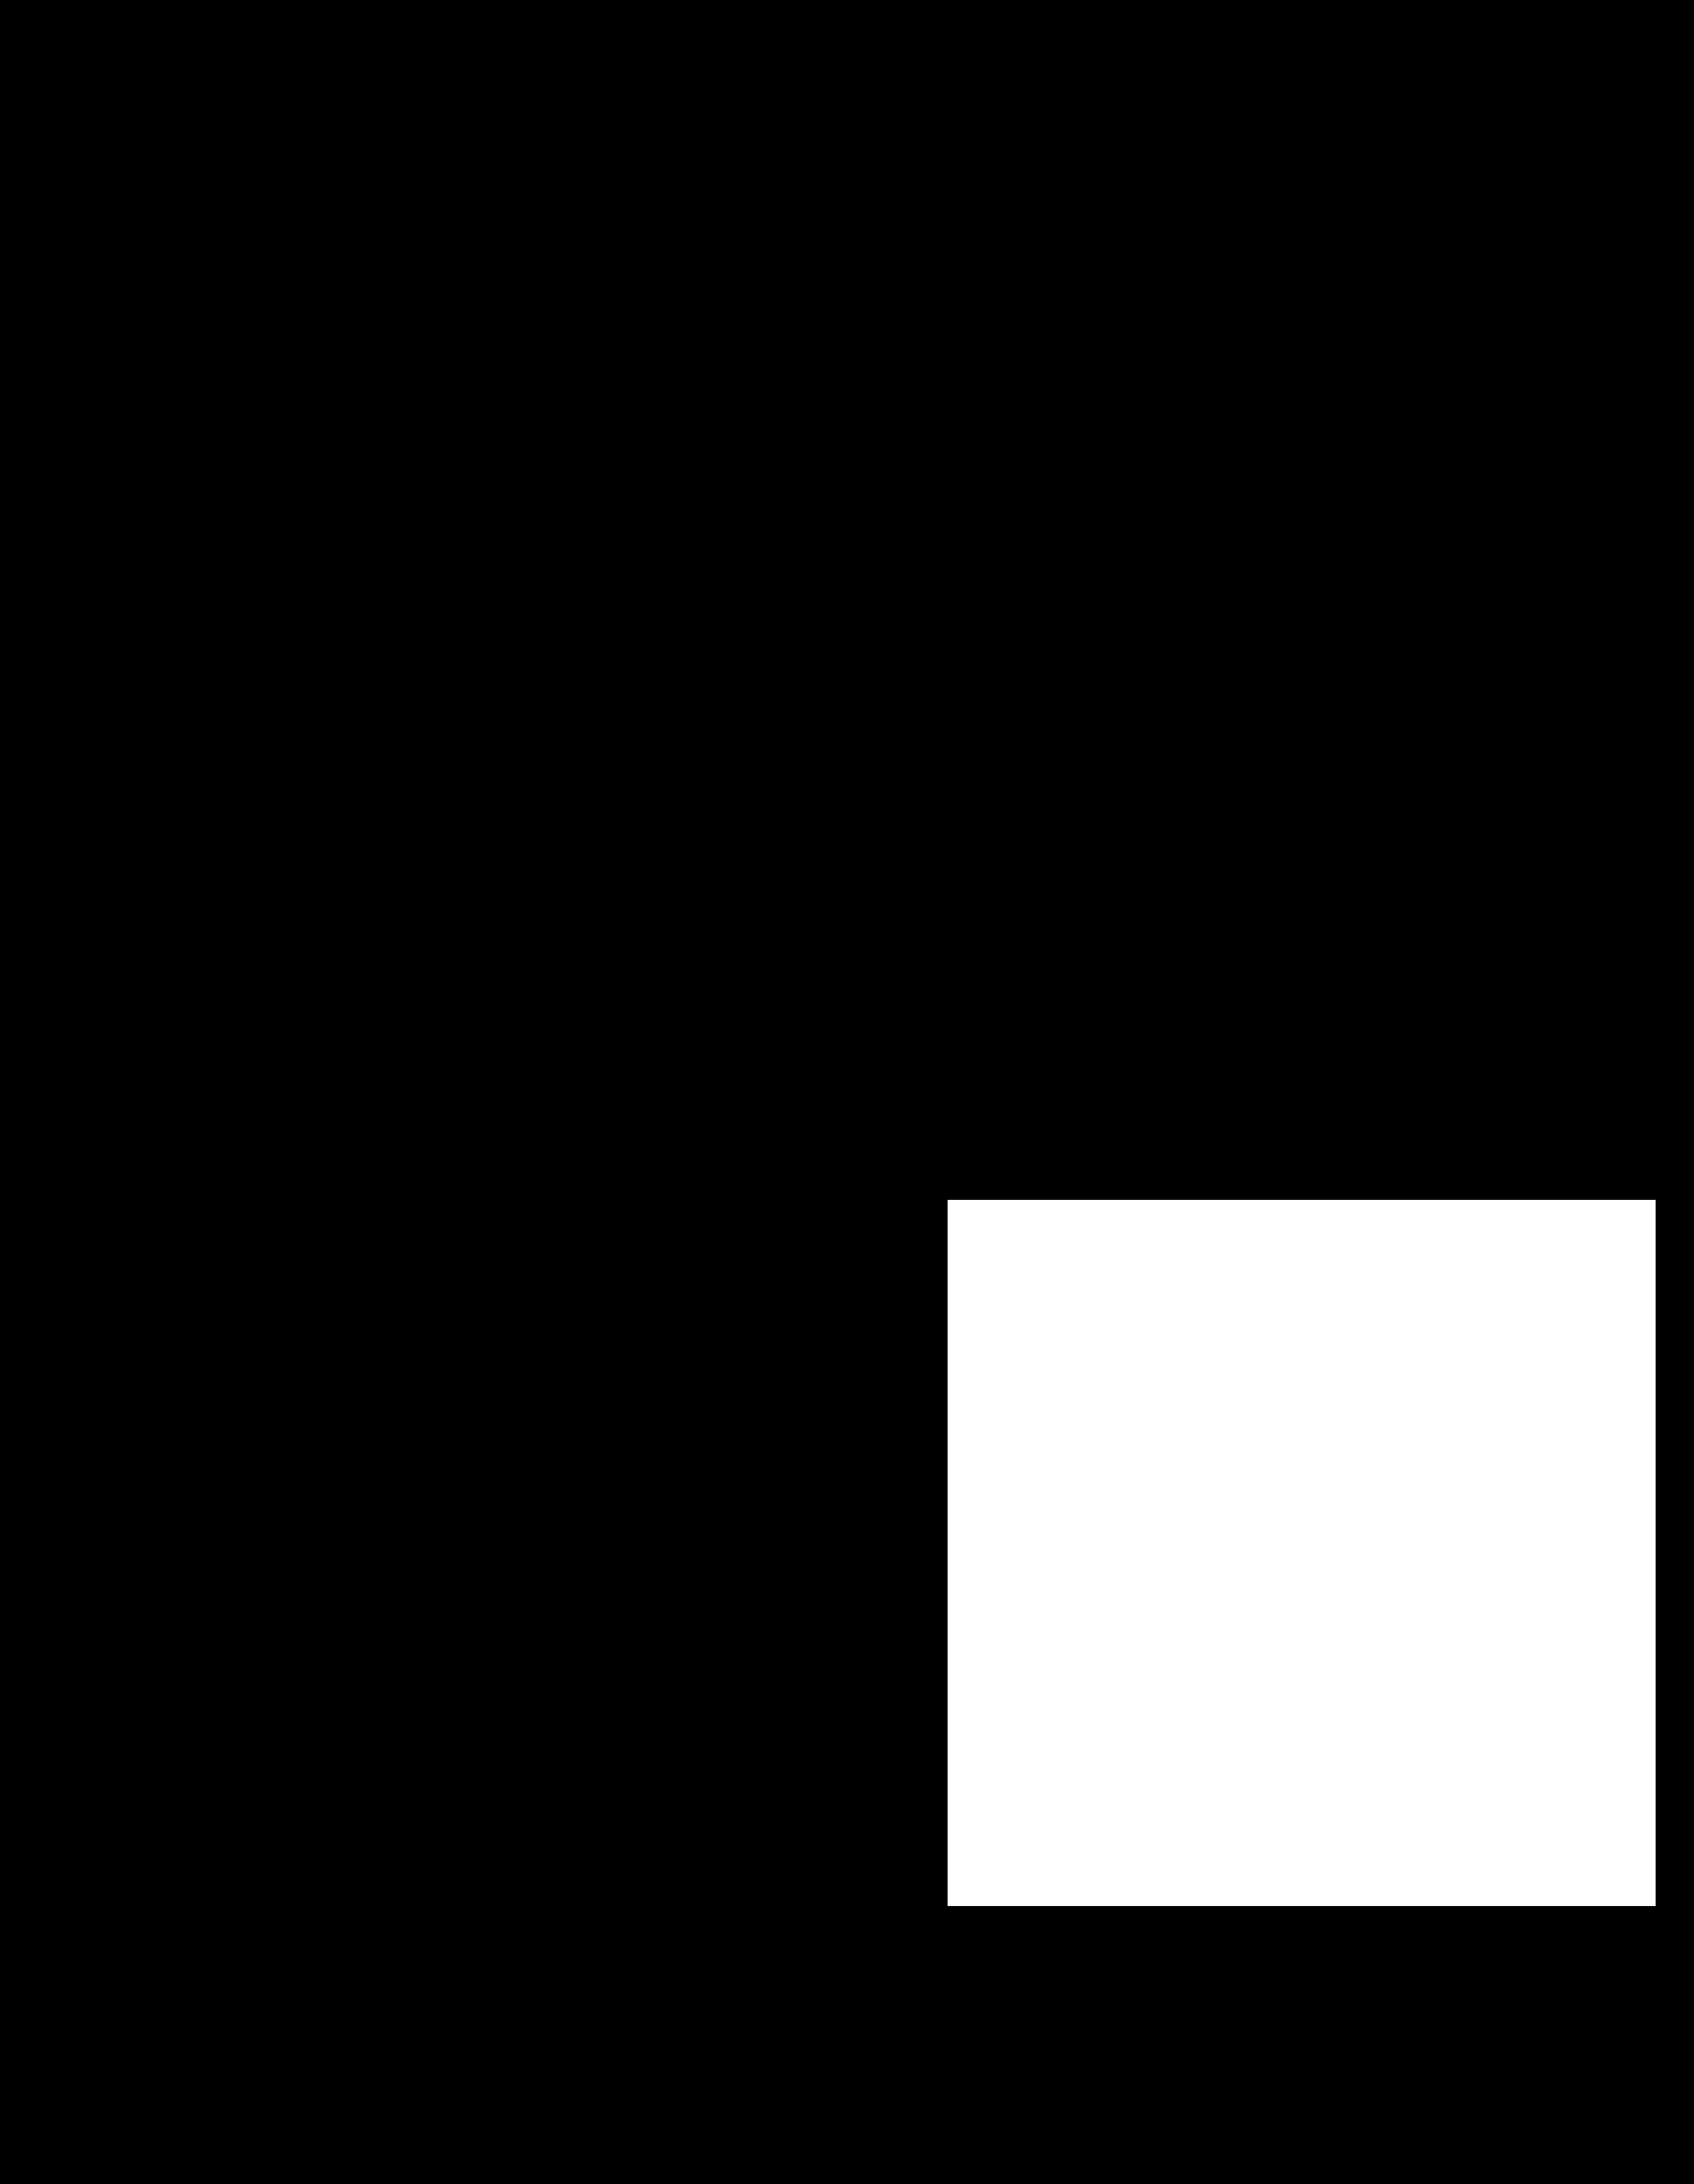table: (948, 1200, 1655, 1906)
